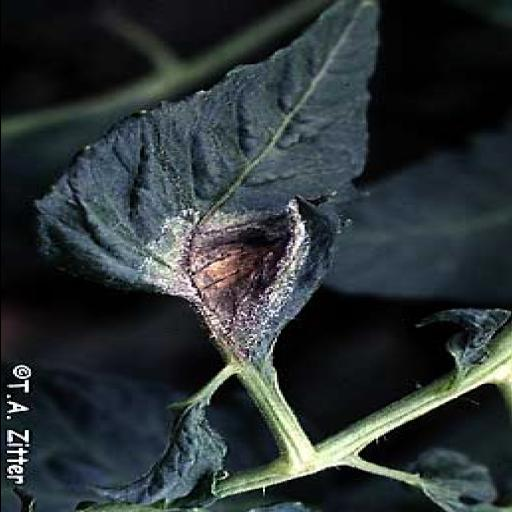Late Blight: (38, 2, 405, 362)
